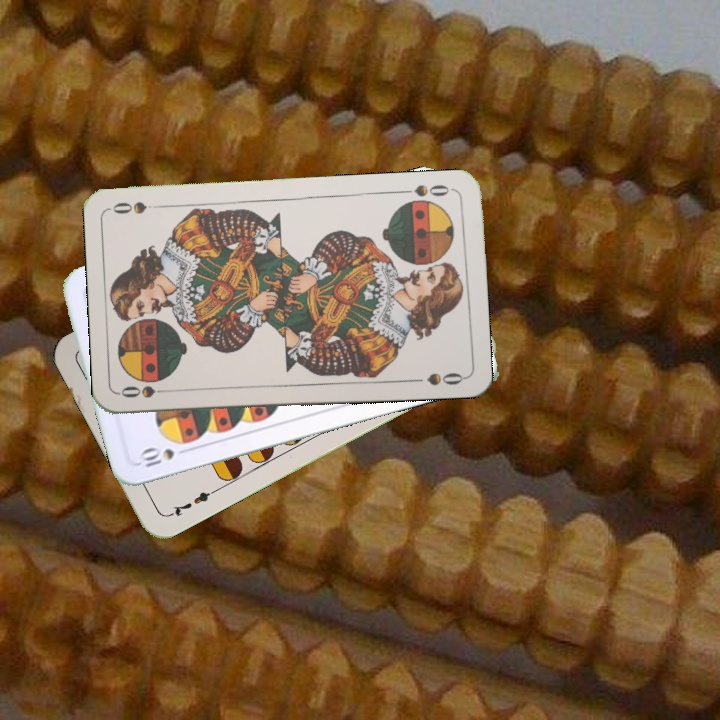E7: (164, 485, 218, 520)
S10: (135, 444, 177, 470)
SO: (117, 381, 176, 401), (397, 180, 457, 199)
